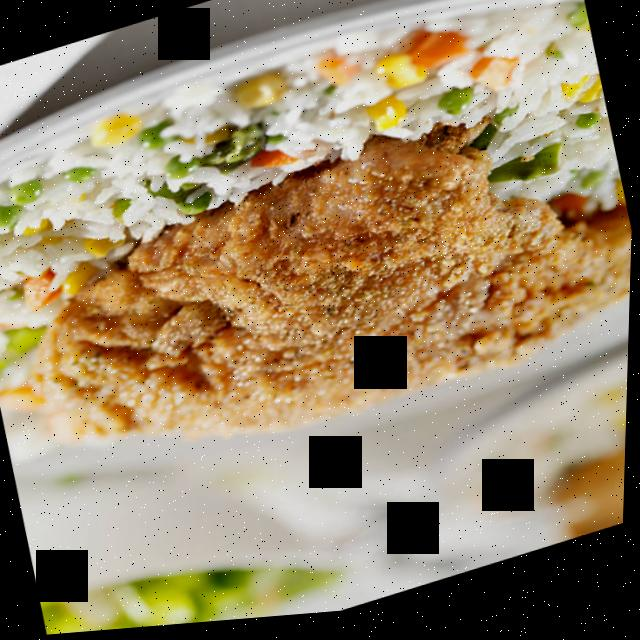Frango: (0, 72, 637, 517)
